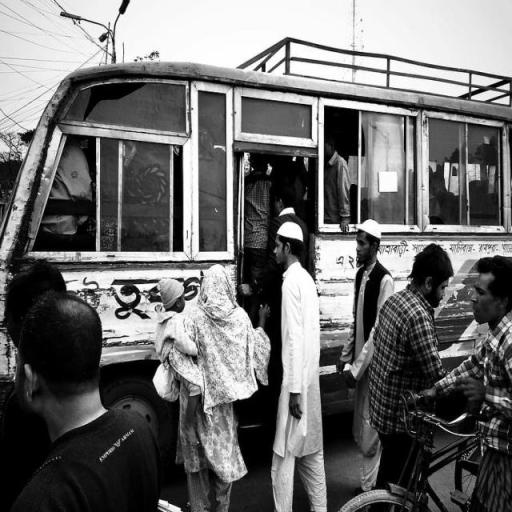person: (11, 288, 164, 512), (174, 263, 271, 512), (373, 245, 455, 512), (272, 219, 327, 512), (454, 258, 512, 512), (349, 223, 392, 490), (154, 263, 209, 427)
